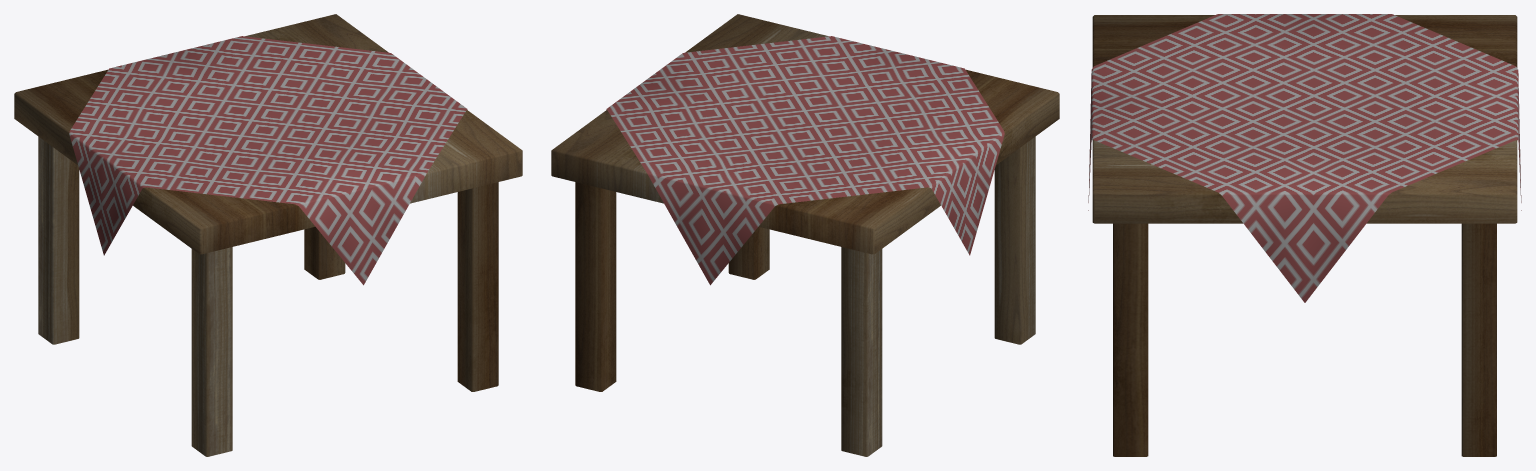
File: Stolik.fbx
3 renders of one model, left to right at view 1: azimuth 30°, elevation 25°; view 2: azimuth 150°, elevation 25°; view 3: azimuth 270°, elevation 25°, orthographic. The views are drawn at different scales.
Parts seen in each view (by area): view 1: Plane; view 2: Plane; view 3: Plane.
Part boxes in pixels (x1=…): Plane: x1=14, y1=14, x2=522, y2=456; Plane: x1=551, y1=14, x2=1059, y2=456; Plane: x1=1088, y1=14, x2=1521, y2=456.
Size of the model in its own units: 203 by 142 by 204.
Materials: 1 (1 with a texture image).
